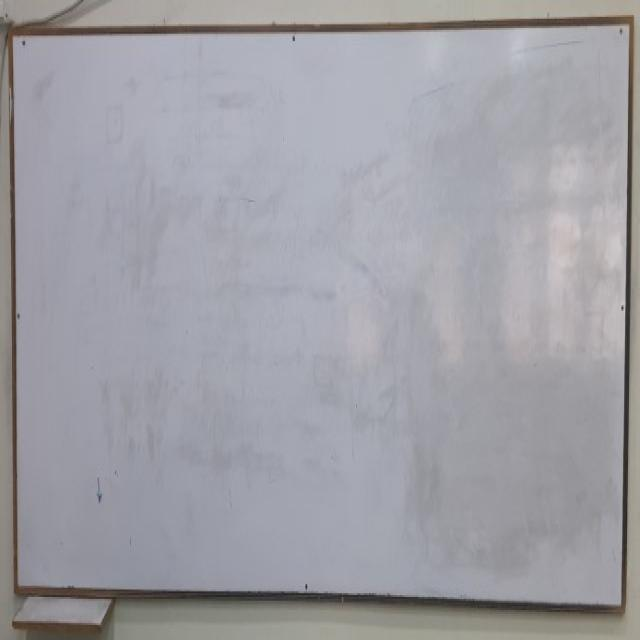White-board: (13, 18, 632, 606)
